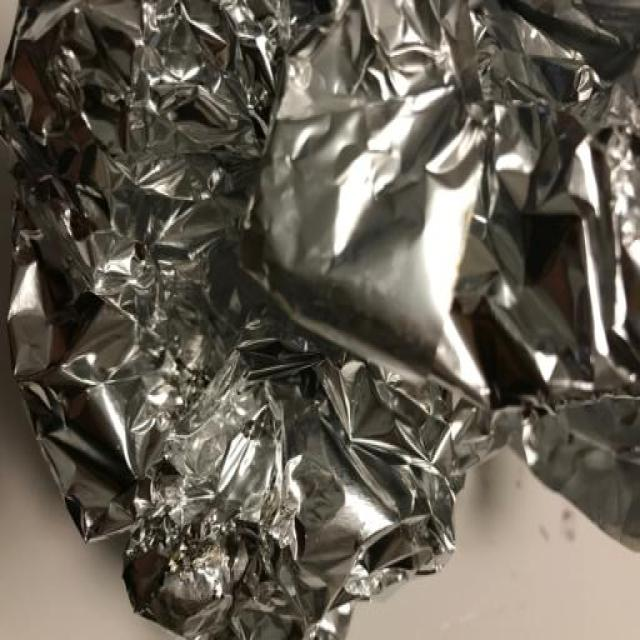Metal: (0, 0, 640, 640)
